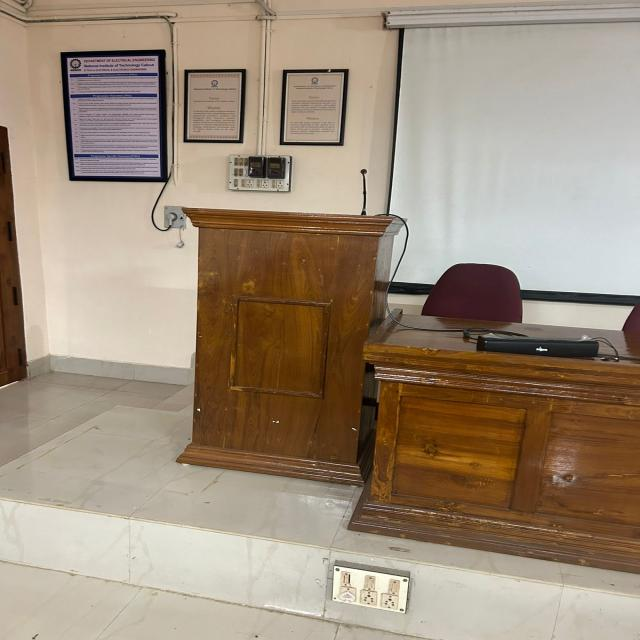Table ahead at: (385, 337, 640, 563), (177, 205, 375, 475)
chair ahead at: (406, 263, 527, 319)
